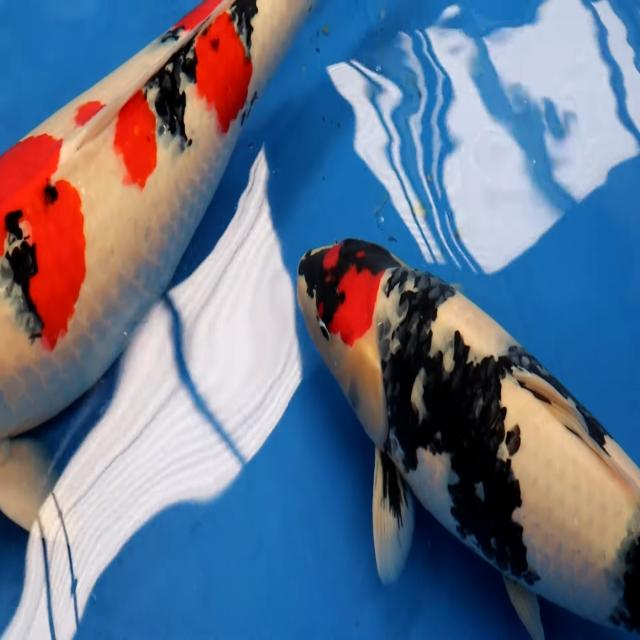Showa: (0, 0, 354, 546), (296, 235, 639, 638)
